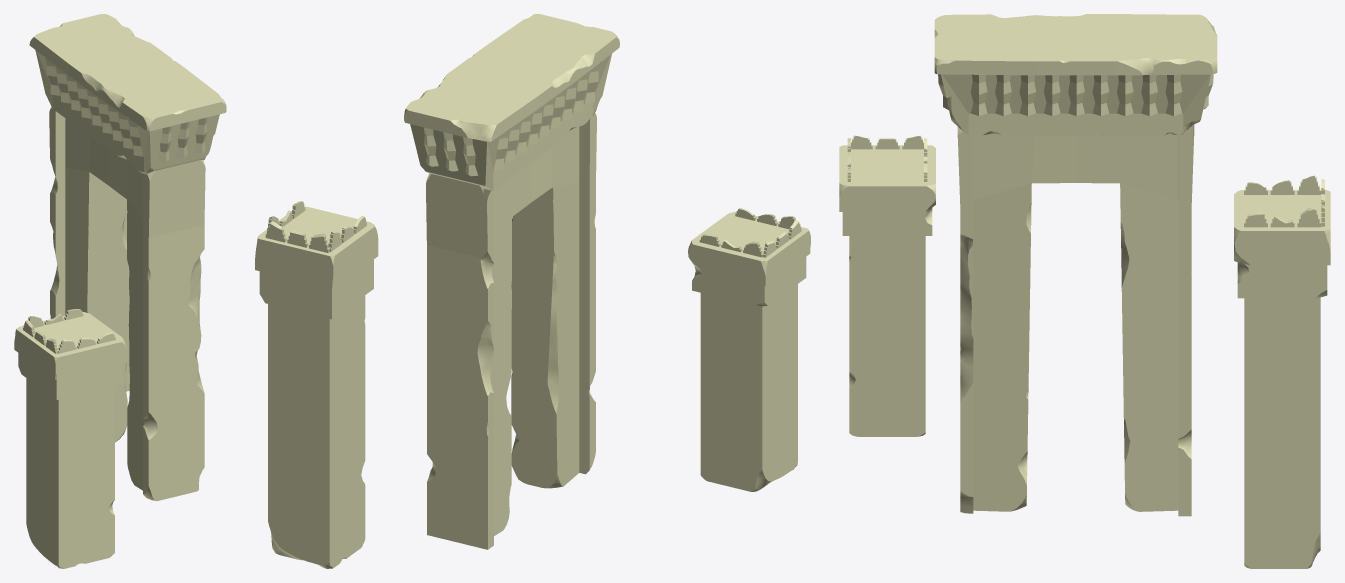
File: Arco_Columnas1.fbx
3 views of the same model, side by side, from view 1: azimuth 30°, elevation 25°; view 2: azimuth 150°, elevation 25°; view 3: azimuth 270°, elevation 25° (orthographic). The views are drawn at different scales.
Visible parts, largest first — view 1: Cube.002_dmg.001; view 2: Cube.002_dmg.001; view 3: Cube.002_dmg.001.
Boxes of the visible parts, x1,y1,x2,y2 form: Cube.002_dmg.001: (14, 14, 226, 568); Cube.002_dmg.001: (255, 14, 810, 568); Cube.002_dmg.001: (839, 14, 1330, 568).
Bounding box in the file's own units: 332 × 420 × 404.
